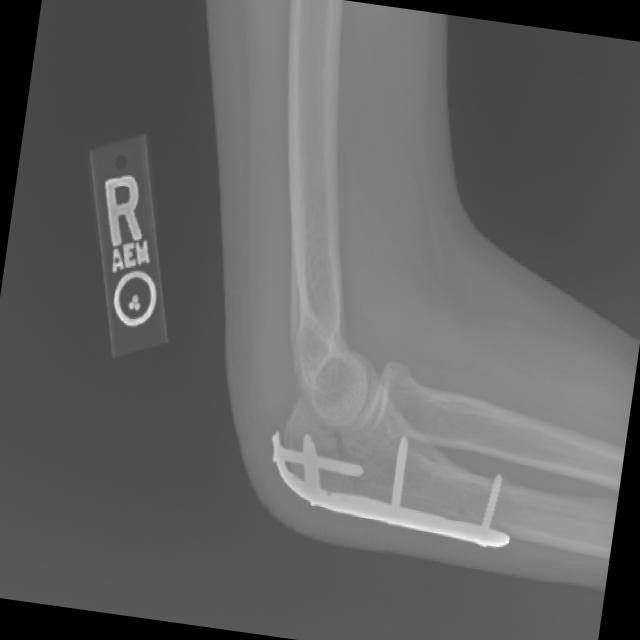elbow positive: (322, 422, 361, 464)
